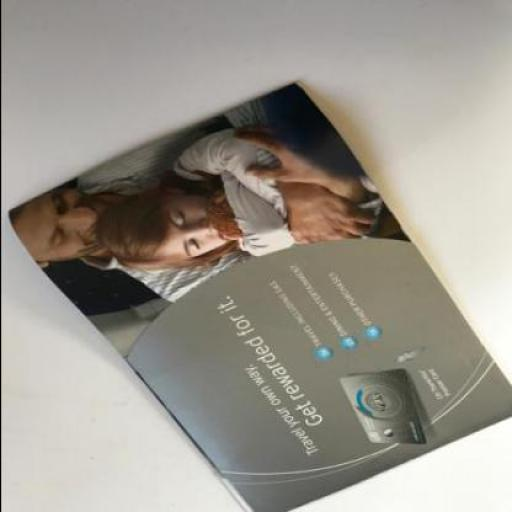paper: (6, 83, 510, 511)
